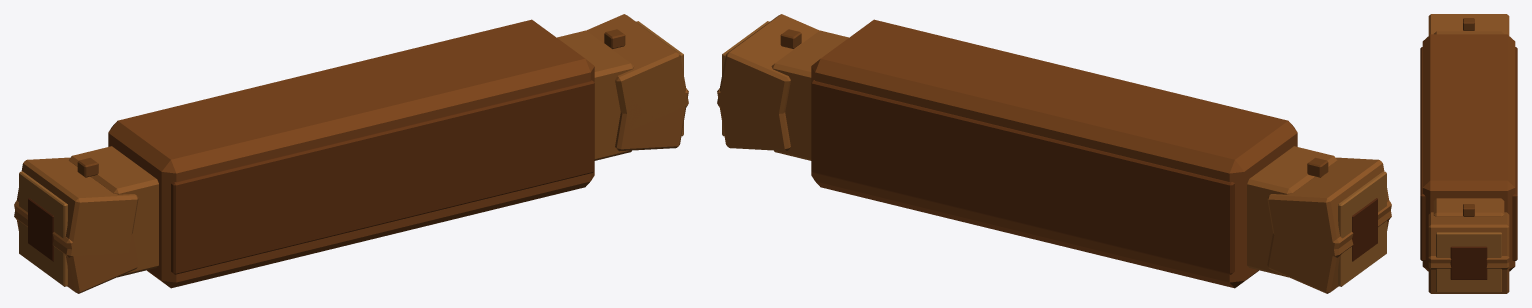
Rendered from mod_notched_log_dovetail_2m.glb.
3 views of the same model, side by side, from view 1: azimuth 30°, elevation 25°; view 2: azimuth 150°, elevation 25°; view 3: azimuth 270°, elevation 25° (orthographic). The views are drawn at different scales.
Visible parts, largest first — view 1: Mod_Notched_Log_Dovetail_2m; view 2: Mod_Notched_Log_Dovetail_2m; view 3: Mod_Notched_Log_Dovetail_2m.
Part boxes in pixels (x1,y1,x2,y2): Mod_Notched_Log_Dovetail_2m: (14,14,688,293); Mod_Notched_Log_Dovetail_2m: (717,14,1391,293); Mod_Notched_Log_Dovetail_2m: (1420,14,1517,293).
Bounding box in the file's own units: 2.13 × 0.42 × 0.398.
